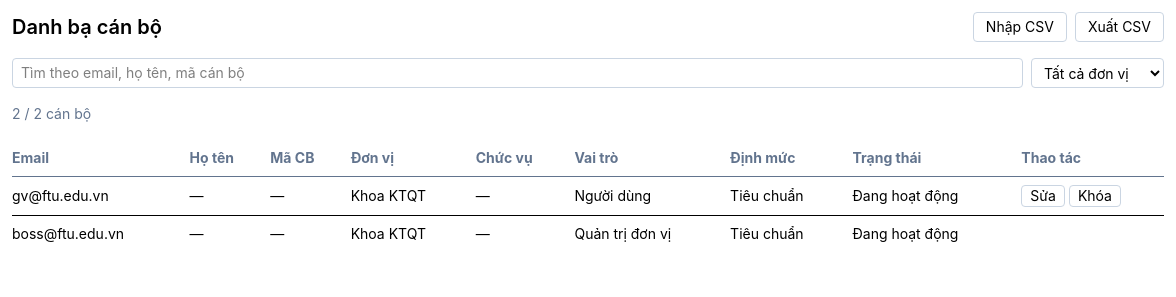
Scenario: DirectoryPage › unit admins cannot change roles, cannot touch other admins and only assign inside their unit
Step 1. Click the button with aria-label "Sửa gv@ftu.edu.vn" → {"x": 1043, "y": 196}, box x1=1021 y1=185 x2=1065 y2=207
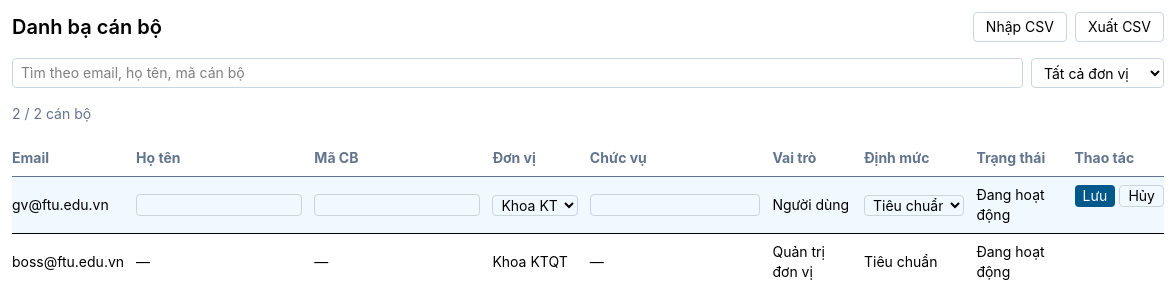
Step 2. Click the button "Hủy" → {"x": 1142, "y": 196}, box x1=1119 y1=185 x2=1164 y2=207
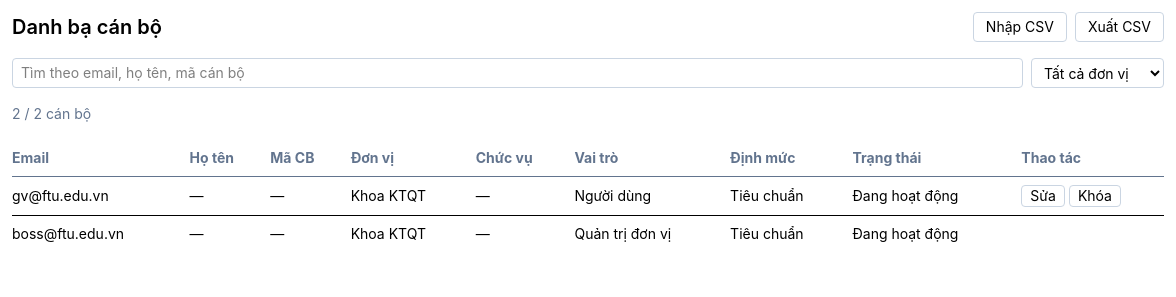
Step 3. Click the button with aria-label "Khóa gv@ftu.edu.vn" → {"x": 1095, "y": 196}, box x1=1069 y1=185 x2=1121 y2=207
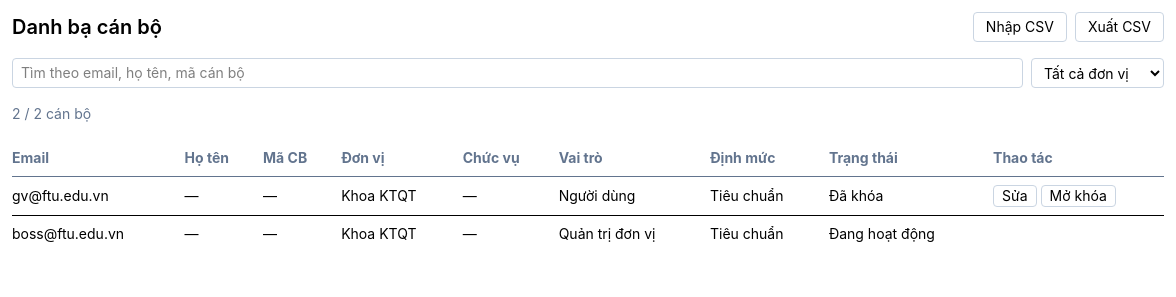
Result: the button with aria-label "Mở khóa gv@ftu.edu.vn" is shown at x1=1041 y1=185 x2=1116 y2=207
